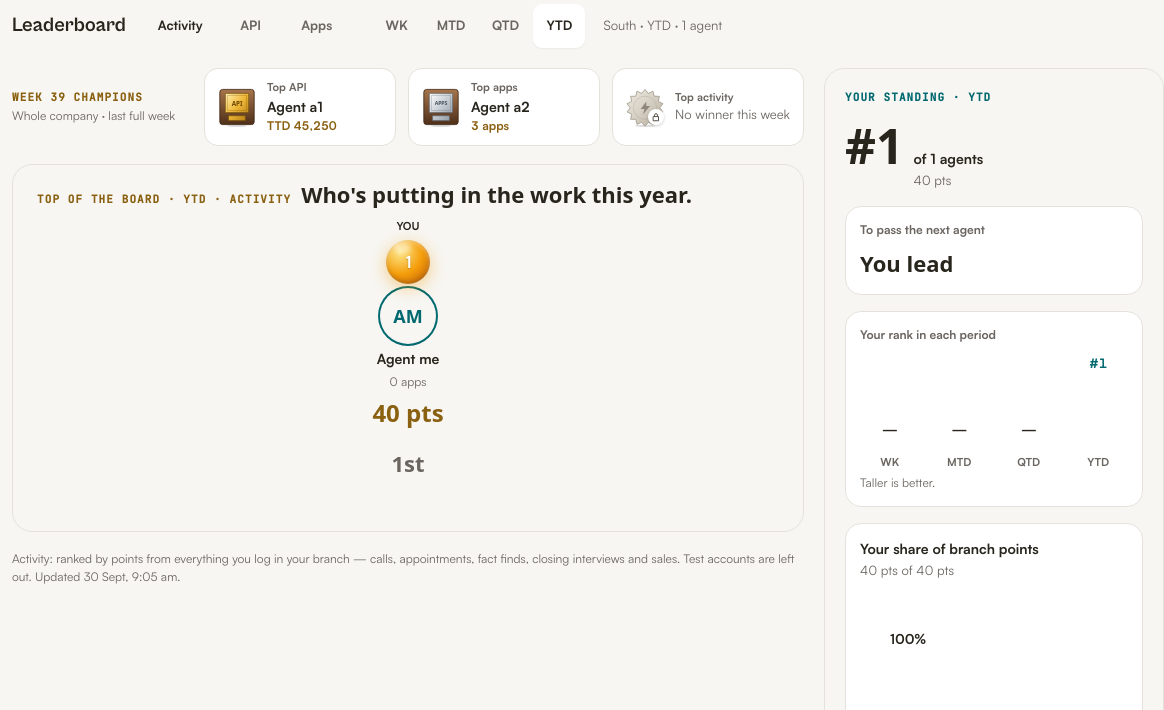
it: FR Leaderboard — three boards (L-2) › a board with business is not empty just because another board is
The width and height of the screenshot is (1164, 710).
What coordinates should you click on to do the following:
click the radio button with test id "fr-leaderboard-board-api"
I would click on:
 (251, 26)
Its box is [219,4,283,48].
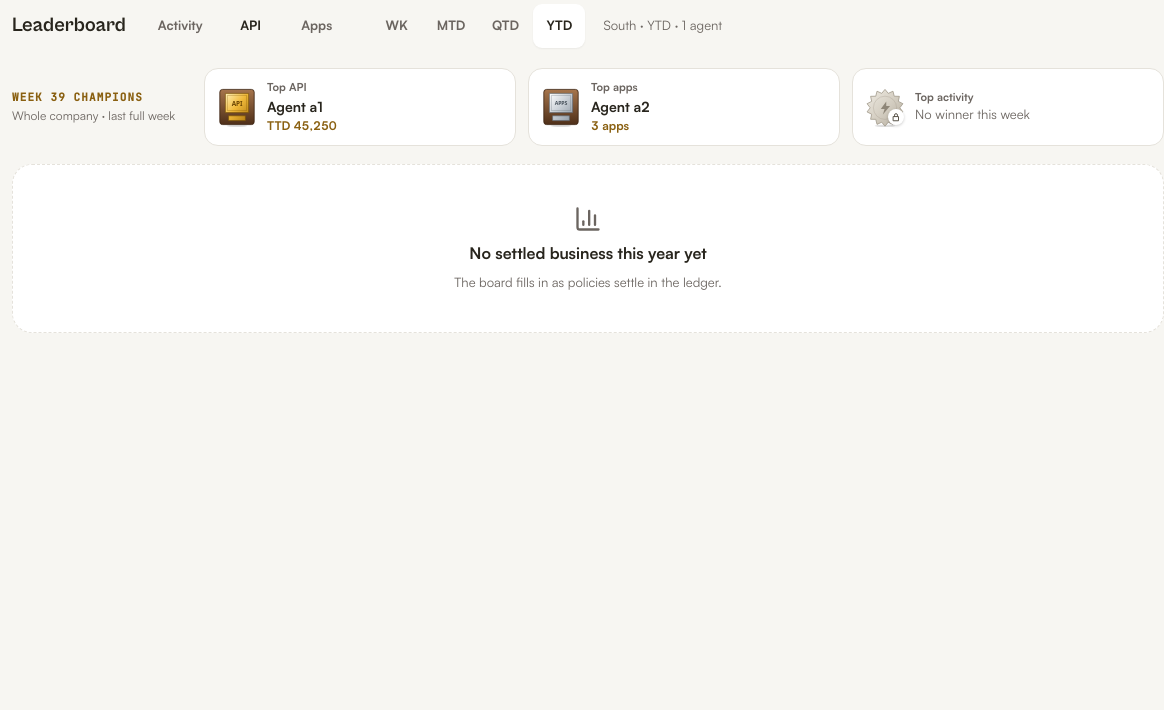
Result: the element with test id "fr-leaderboard-empty" is shown at [12,164,1163,333]
